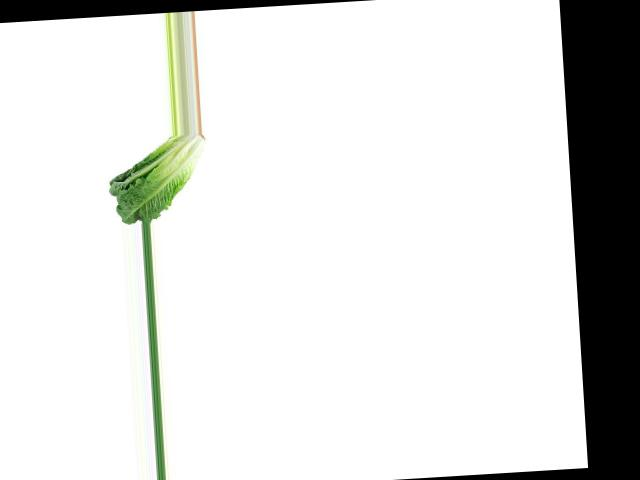lettuce: (104, 133, 211, 224)
